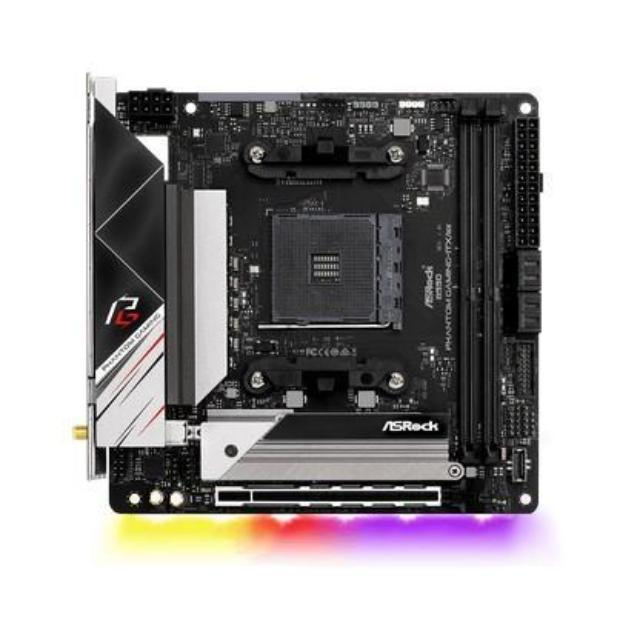Mainboard: (74, 66, 552, 529)
